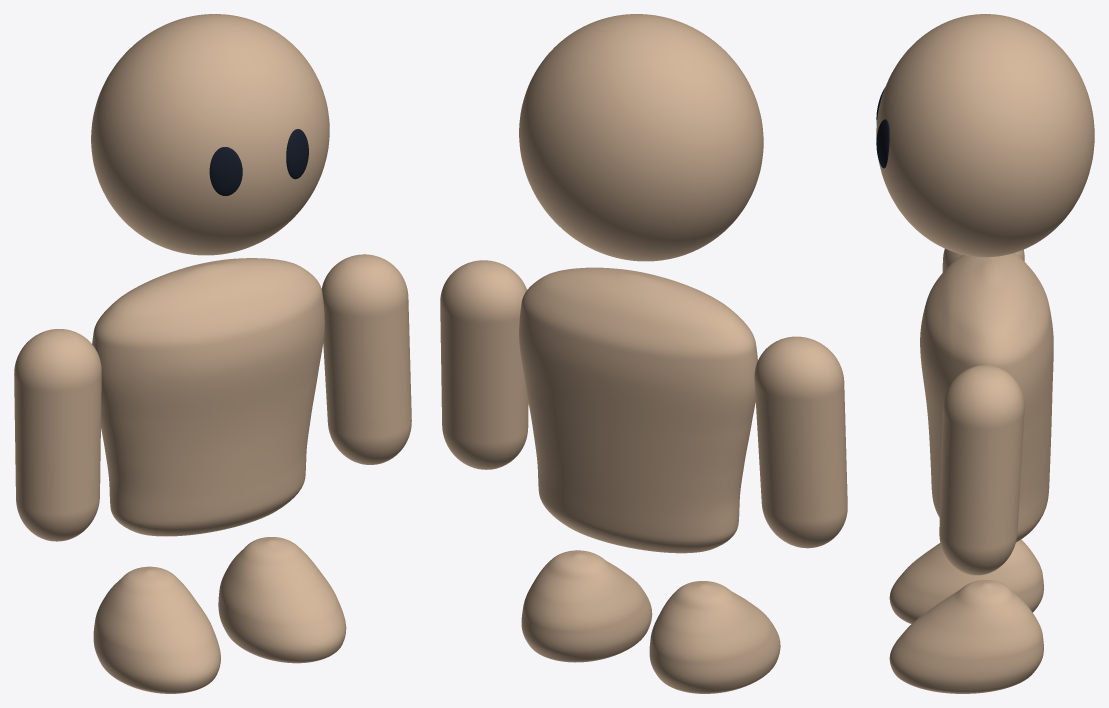
Rendered from Masculine-skin0.glb.
3 views of the same model, side by side, from view 1: azimuth 30°, elevation 25°; view 2: azimuth 150°, elevation 25°; view 3: azimuth 270°, elevation 25° (orthographic). The views are drawn at different scales.
Parts seen in each view (by area): view 1: Floating torso, Round head, Left floating arm, Right floating arm, Left rounded foot, Right rounded foot, Left optional eye, Right optional eye; view 2: Floating torso, Round head, Left floating arm, Right floating arm, Left rounded foot, Right rounded foot; view 3: Round head, Floating torso, Right floating arm, Right rounded foot, Left rounded foot, Right optional eye.
Part boxes in pixels (x1,y1,x2,y2): Floating torso: (92,258,324,536); Round head: (91,14,329,255); Left floating arm: (14,329,101,541); Right floating arm: (321,254,411,464); Left rounded foot: (93,566,220,693); Right rounded foot: (218,537,346,663); Left optional eye: (209,147,242,195); Right optional eye: (286,129,308,179); Floating torso: (519,267,757,553); Round head: (519,14,763,261); Left floating arm: (754,336,847,548); Right floating arm: (440,260,528,469); Left rounded foot: (649,581,780,693); Right rounded foot: (521,550,652,662); Round head: (876,14,1094,257); Floating torso: (920,253,1053,542); Right floating arm: (939,365,1024,575); Right rounded foot: (889,580,1043,693); Left rounded foot: (889,539,1043,624); Right optional eye: (876,119,889,168).
Bounding box in the file's own units: 1.79 × 2.78 × 0.88.
